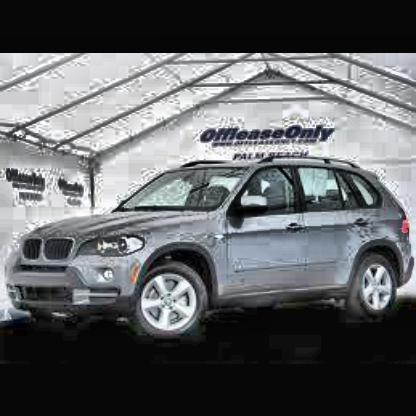BMW X5 SUV 2007: (6, 156, 415, 343)
